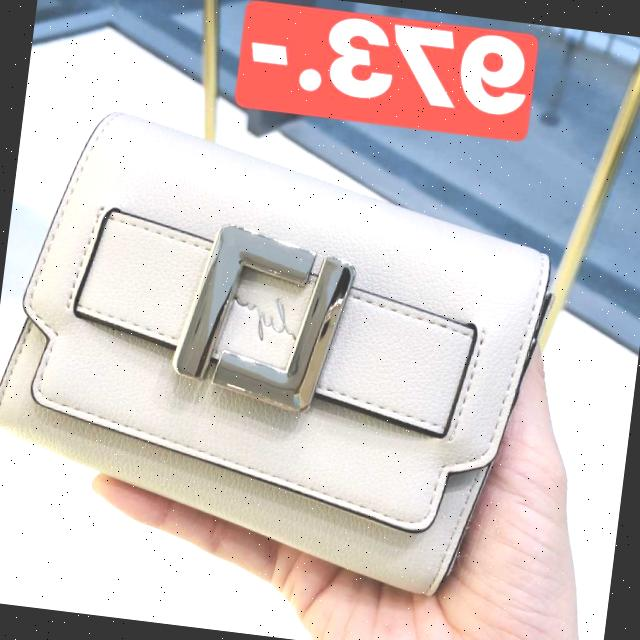Handbag: (0, 97, 563, 604)
